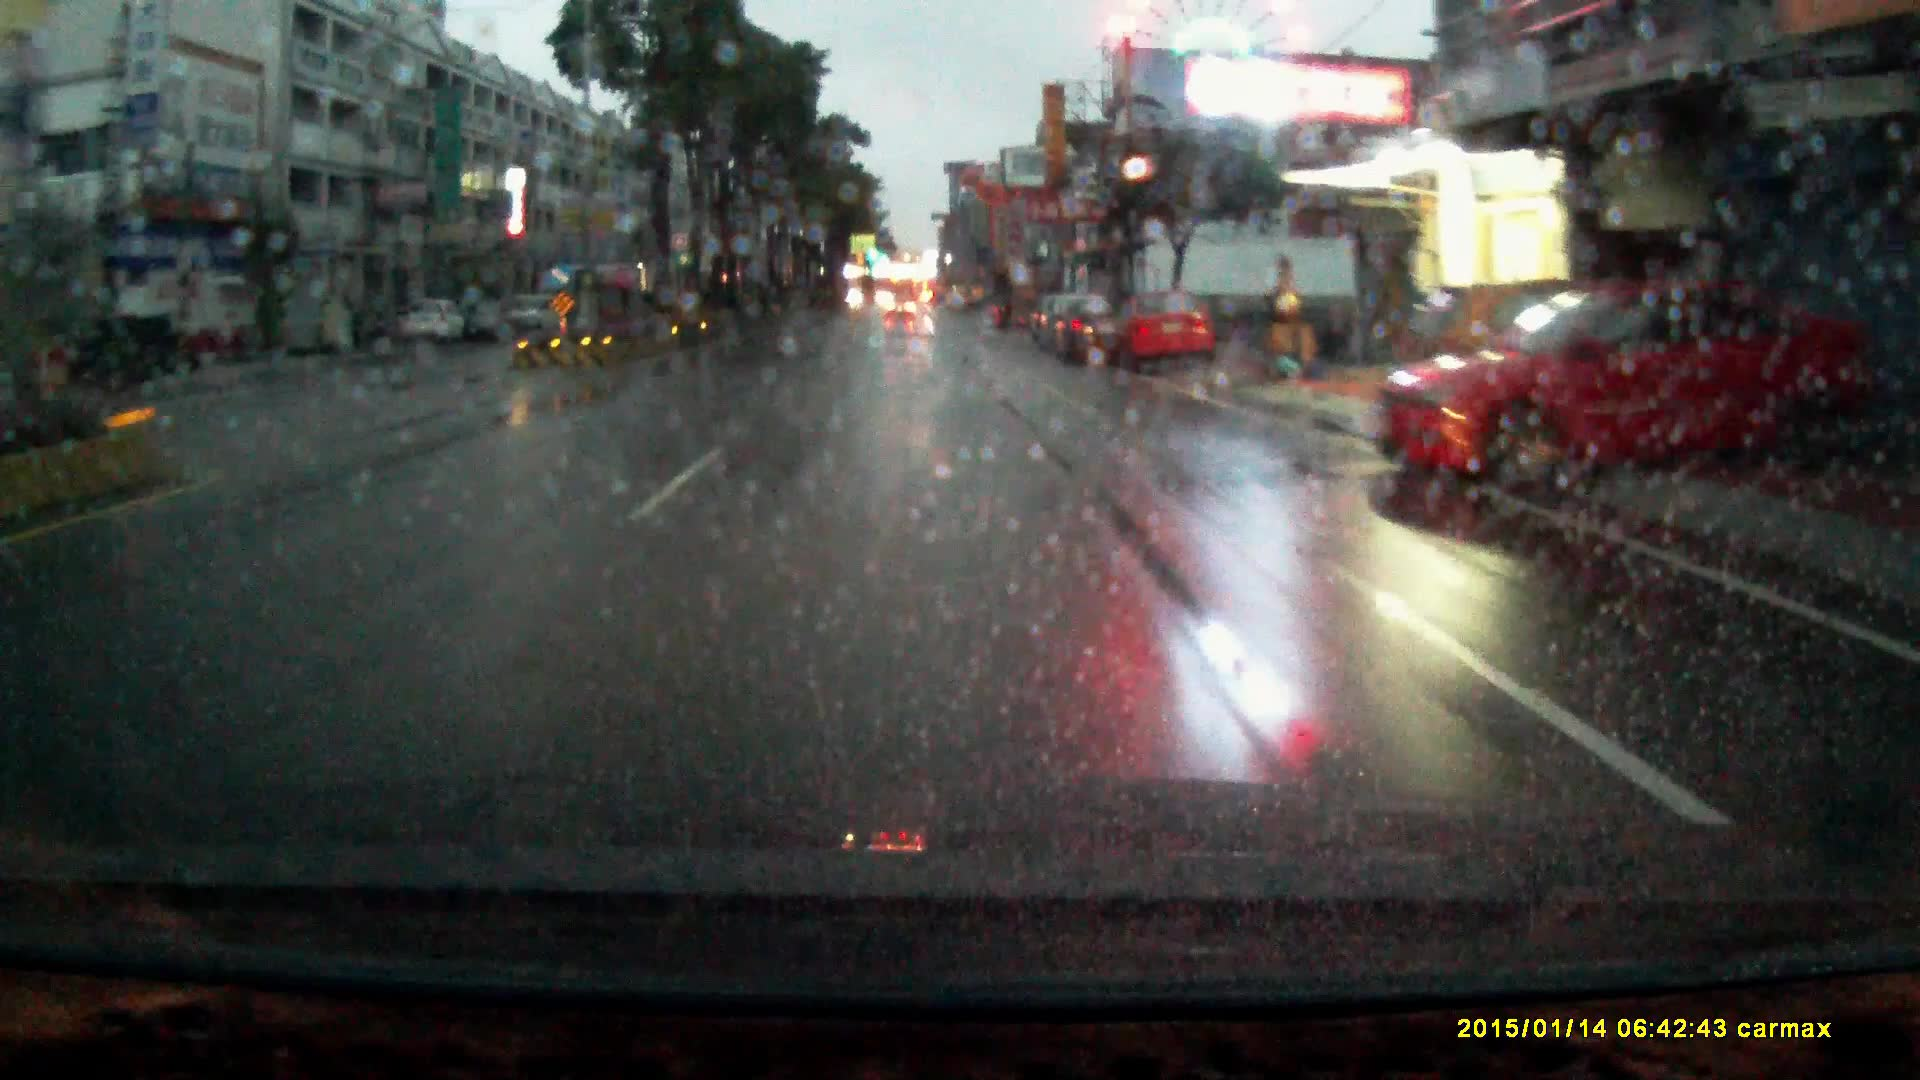vehicle: (1371, 273, 1828, 484), (1113, 286, 1222, 372), (1050, 290, 1124, 365), (402, 293, 469, 345), (506, 293, 571, 338), (1036, 290, 1059, 342), (886, 293, 918, 320)
